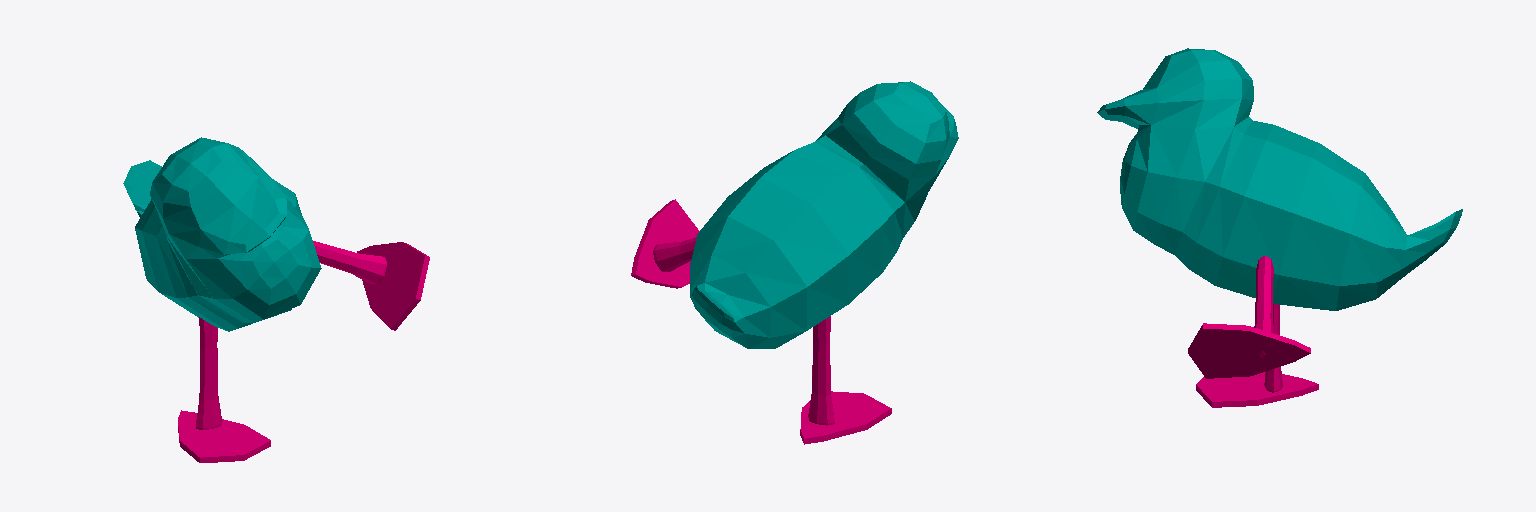
The picture shows the model from 3 angles: view 1: azimuth 30°, elevation 25°; view 2: azimuth 150°, elevation 25°; view 3: azimuth 270°, elevation 25°; orthographic projection.
Parts seen in each view (by area): view 1: Cube_Cube.016, Plane, Plane.001, Cube.001_Cube.017, Cube.002_Cube.018; view 2: Cube_Cube.016, Plane, Plane.001, Cube.001_Cube.017, Cube.002_Cube.018; view 3: Cube_Cube.016, Plane, Plane.001, Cube.002_Cube.018, Cube.001_Cube.017.
Part boxes in pixels (bbox=[...]): Cube_Cube.016: bbox=[123, 137, 321, 331]; Plane: bbox=[357, 242, 429, 330]; Plane.001: bbox=[178, 410, 270, 462]; Cube.001_Cube.017: bbox=[196, 317, 221, 429]; Cube.002_Cube.018: bbox=[313, 241, 386, 283]; Cube_Cube.016: bbox=[690, 81, 958, 348]; Plane: bbox=[631, 199, 699, 288]; Plane.001: bbox=[800, 391, 891, 444]; Cube.001_Cube.017: bbox=[808, 316, 834, 425]; Cube.002_Cube.018: bbox=[653, 237, 696, 271]; Cube_Cube.016: bbox=[1097, 48, 1462, 310]; Plane: bbox=[1188, 323, 1310, 378]; Plane.001: bbox=[1196, 372, 1318, 407]; Cube.002_Cube.018: bbox=[1254, 256, 1273, 357]; Cube.001_Cube.017: bbox=[1264, 304, 1282, 392].
Bounding box in the file's own units: 3.84 × 4.39 × 4.48.
Materials: 2 (1 with a texture image).